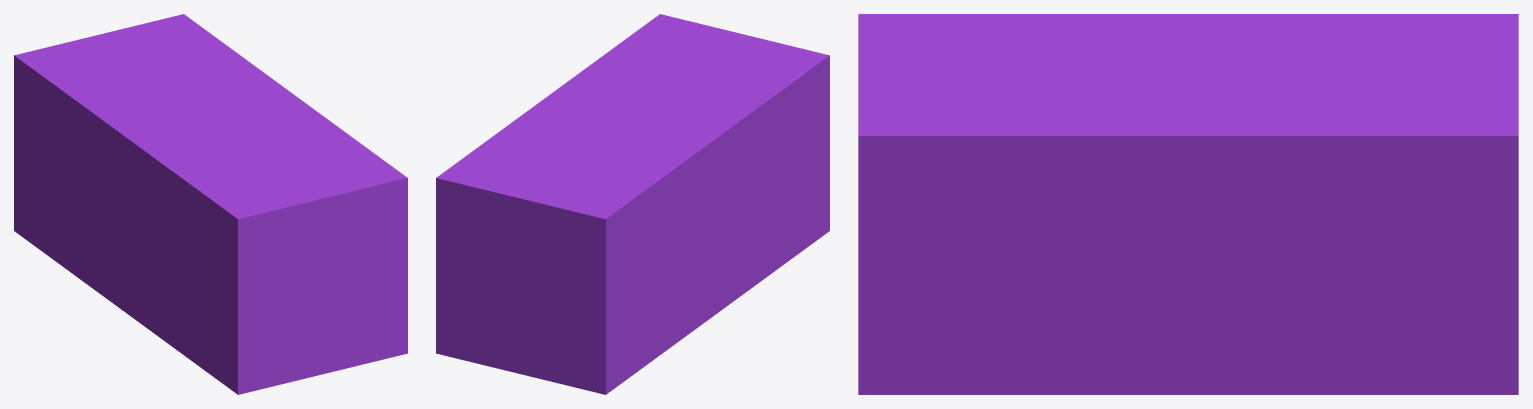
File: ExhibitGlass_1.001_chunks.fbx
3 views of the same model, side by side, from view 1: azimuth 30°, elevation 25°; view 2: azimuth 150°, elevation 25°; view 3: azimuth 270°, elevation 25° (orthographic). The views are drawn at different scales.
Visible parts, largest first — view 1: ExhibitGlass_1.001_1, ExhibitGlass_1.001_0, ExhibitGlass_1.001_6, ExhibitGlass_1.001_8, ExhibitGlass_1.001_9, ExhibitGlass_1.001_7; view 2: ExhibitGlass_1.001_0, ExhibitGlass_1.001_1, ExhibitGlass_1.001_6, ExhibitGlass_1.001_9, ExhibitGlass_1.001_2, ExhibitGlass_1.001_8, ExhibitGlass_1.001_7; view 3: ExhibitGlass_1.001_1, ExhibitGlass_1.001_7, ExhibitGlass_1.001_2, ExhibitGlass_1.001_9, ExhibitGlass_1.001_8, ExhibitGlass_1.001_3, ExhibitGlass_1.001_0, ExhibitGlass_1.001_6, ExhibitGlass_1.001_5.
Boxes of the visible parts, <box> form: ExhibitGlass_1.001_1: <box>135,139,407,394</box>; ExhibitGlass_1.001_0: <box>14,27,167,319</box>; ExhibitGlass_1.001_6: <box>144,67,326,153</box>; ExhibitGlass_1.001_8: <box>187,34,325,118</box>; ExhibitGlass_1.001_9: <box>131,14,210,67</box>; ExhibitGlass_1.001_7: <box>300,117,380,158</box>; ExhibitGlass_1.001_0: <box>448,121,734,394</box>; ExhibitGlass_1.001_1: <box>633,14,829,305</box>; ExhibitGlass_1.001_6: <box>543,56,700,165</box>; ExhibitGlass_1.001_9: <box>436,150,564,256</box>; ExhibitGlass_1.001_2: <box>436,254,511,371</box>; ExhibitGlass_1.001_8: <box>463,73,589,158</box>; ExhibitGlass_1.001_7: <box>579,34,649,83</box>; ExhibitGlass_1.001_1: <box>858,14,1152,394</box>; ExhibitGlass_1.001_7: <box>938,110,1338,275</box>; ExhibitGlass_1.001_2: <box>1312,248,1518,394</box>; ExhibitGlass_1.001_9: <box>1328,75,1518,258</box>; ExhibitGlass_1.001_8: <box>1098,99,1439,223</box>; ExhibitGlass_1.001_3: <box>980,309,1336,394</box>; ExhibitGlass_1.001_0: <box>1140,14,1518,97</box>; ExhibitGlass_1.001_6: <box>992,35,1386,122</box>; ExhibitGlass_1.001_5: <box>1043,256,1379,340</box>.
Bounding box in the file's own units: 270 × 267 × 618.
